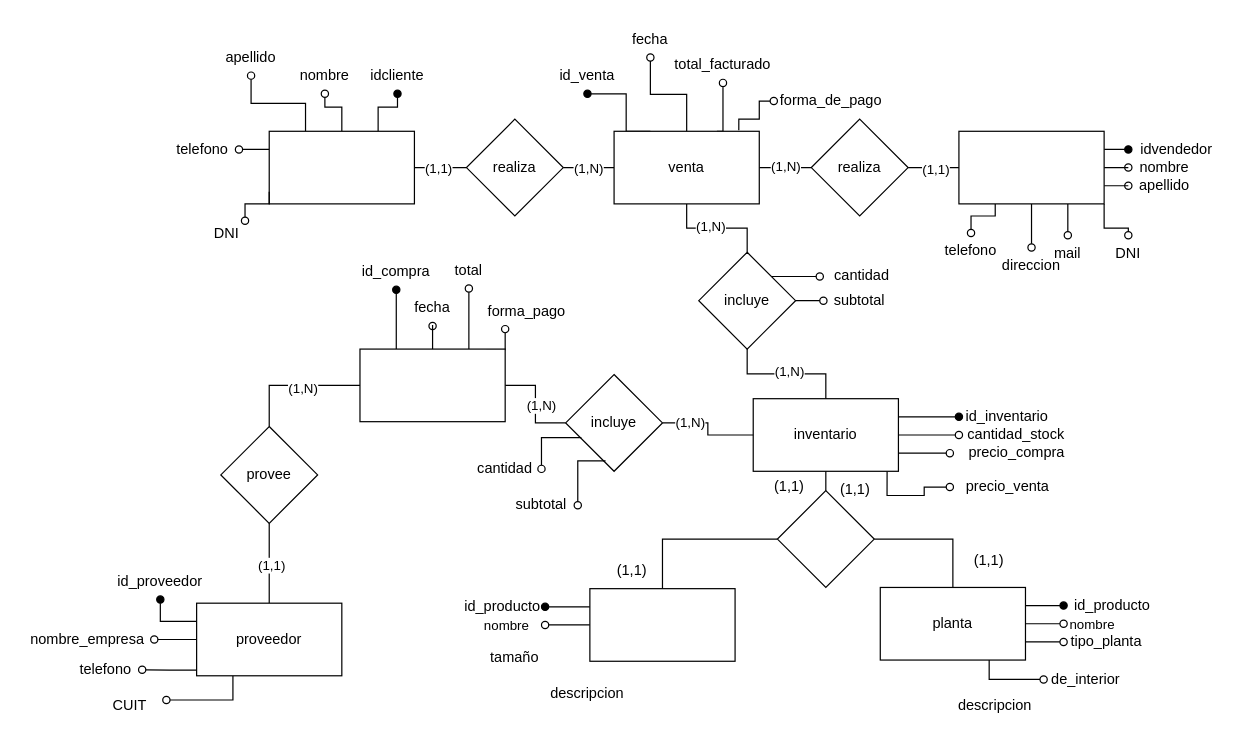
This 1245x744 diagram has some shape labels left out. Each missing label, with the box of its shape:
clientes: (268, 130, 414, 204)
compra: (359, 348, 505, 422)
contiene: (776, 489, 874, 587)
insumo: (589, 587, 735, 661)
vendedor: (958, 130, 1104, 204)
